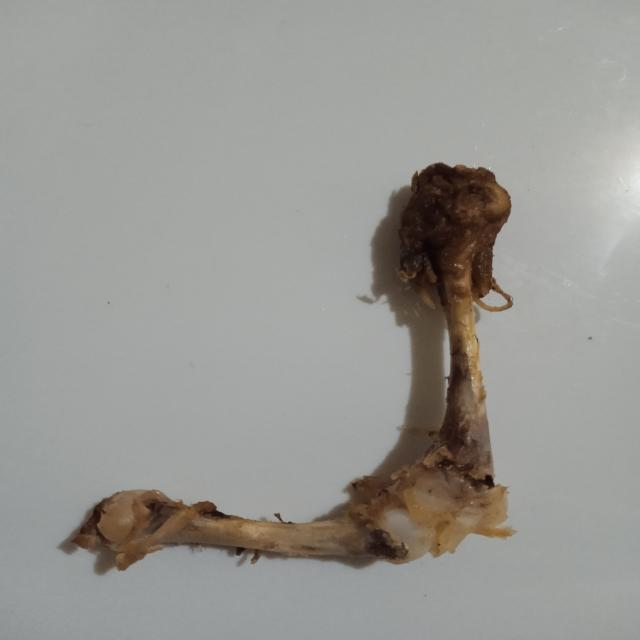bone: (54, 148, 538, 590)
